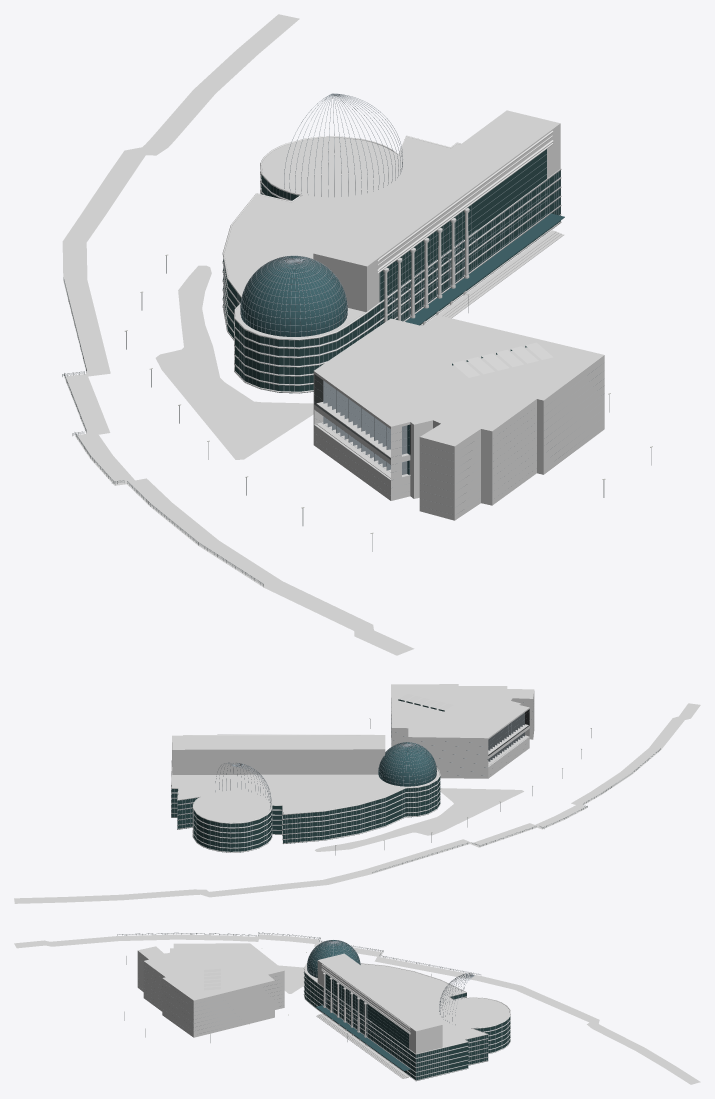
3 views of the same model, one above another, from view 1: azimuth 30°, elevation 25°; view 2: azimuth 150°, elevation 25°; view 3: azimuth 270°, elevation 25° (orthographic). The views are drawn at different scales.
Parts seen in each view (by area): view 1: -2_-1_v02 白麻花岗岩, -2_-1_v03 会议中心浅米石, -2_-1_滨江浅灰石材, -2_-1_v02 深灰屋面, -2_-1_v03 会议中心深蓝绿玻璃, -2_-1_v02 铝合金幕墙框, -2_-1_v02 草地, -2_-1_v03 球厅反射玻璃; view 2: -2_-1_v03 会议中心浅米石, -2_-1_v02 白麻花岗岩, -2_-1_v02 深灰屋面, -2_-1_v03 会议中心深蓝绿玻璃, -2_-1_滨江浅灰石材, -2_-1_v02 铝合金幕墙框, -2_-1_v02 草地, -2_-1_v03 球厅反射玻璃, -2_-1_滨江栏杆拉丝不锈钢; view 3: -2_-1_v02 白麻花岗岩, -2_-1_v03 会议中心浅米石, -2_-1_v03 会议中心深蓝绿玻璃, -2_-1_v02 深灰屋面, -2_-1_滨江浅灰石材, -2_-1_v02 铝合金幕墙框, -2_-1_v03 球厅反射玻璃, -2_-1_v02 草地, -2_-1_滨江栏杆拉丝不锈钢.
Boxes of the visible parts, left/top/right/bottom form: -2_-1_v02 白麻花岗岩: left=313, top=316, right=604, bottom=520; -2_-1_v03 会议中心浅米石: left=222, top=110, right=563, bottom=393; -2_-1_滨江浅灰石材: left=62, top=14, right=414, bottom=655; -2_-1_v02 深灰屋面: left=224, top=137, right=459, bottom=338; -2_-1_v03 会议中心深蓝绿玻璃: left=223, top=149, right=560, bottom=393; -2_-1_v02 铝合金幕墙框: left=223, top=93, right=603, bottom=501; -2_-1_v02 草地: left=155, top=265, right=313, bottom=459; -2_-1_v03 球厅反射玻璃: left=240, top=213, right=564, bottom=474; -2_-1_v03 会议中心浅米石: left=171, top=734, right=440, bottom=852; -2_-1_v02 白麻花岗岩: left=391, top=684, right=534, bottom=778; -2_-1_v02 深灰屋面: left=171, top=769, right=439, bottom=822; -2_-1_v03 会议中心深蓝绿玻璃: left=171, top=699, right=444, bottom=852; -2_-1_滨江浅灰石材: left=14, top=703, right=700, bottom=903; -2_-1_v02 铝合金幕墙框: left=171, top=702, right=532, bottom=851; -2_-1_v02 草地: left=315, top=788, right=523, bottom=851; -2_-1_v03 球厅反射玻璃: left=378, top=742, right=436, bottom=786; -2_-1_滨江栏杆拉丝不锈钢: left=372, top=748, right=660, bottom=872; -2_-1_v02 白麻花岗岩: left=137, top=943, right=284, bottom=1037; -2_-1_v03 会议中心浅米石: left=303, top=953, right=510, bottom=1080; -2_-1_v03 会议中心深蓝绿玻璃: left=304, top=972, right=510, bottom=1080; -2_-1_v02 深灰屋面: left=304, top=964, right=509, bottom=1047; -2_-1_滨江浅灰石材: left=14, top=934, right=700, bottom=1084; -2_-1_v02 铝合金幕墙框: left=162, top=940, right=509, bottom=1079; -2_-1_v03 球厅反射玻璃: left=307, top=940, right=410, bottom=1070; -2_-1_v02 草地: left=278, top=965, right=304, bottom=993; -2_-1_滨江栏杆拉丝不锈钢: left=117, top=932, right=480, bottom=974.
Bounding box in the file's own units: 254 × 50.74 × 488.
